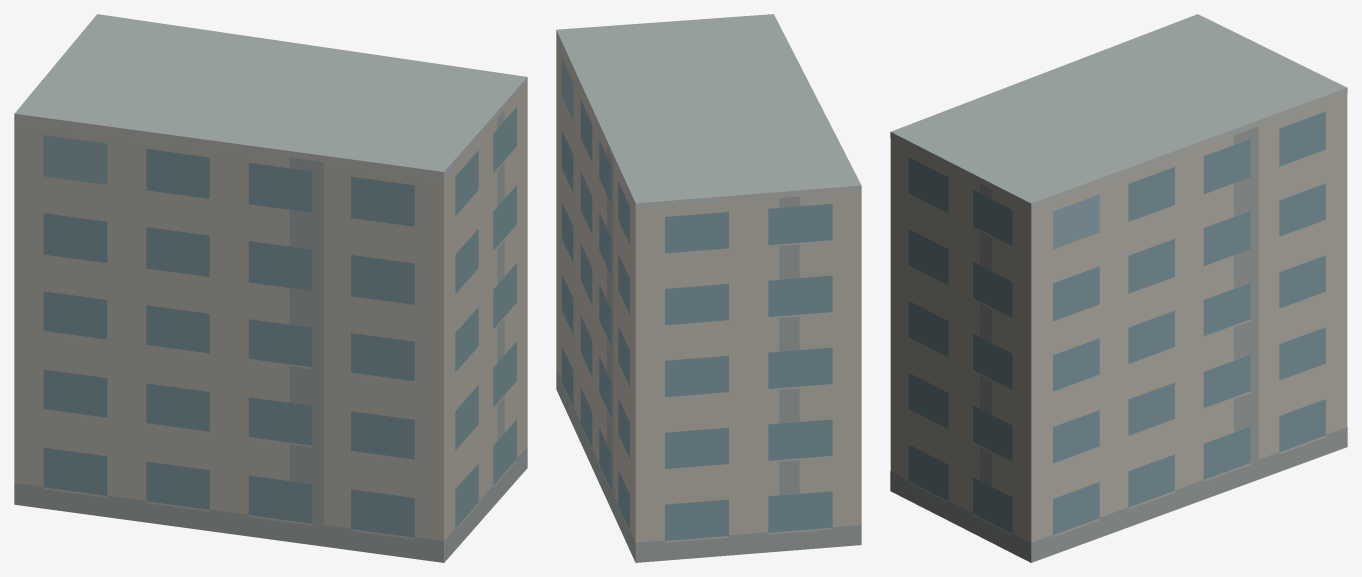
File: survey-upis-32842754.glb
The picture shows the model from 3 angles, left to right: view 1: azimuth 30°, elevation 25°; view 2: azimuth 150°, elevation 25°; view 3: azimuth 270°, elevation 25°; orthographic projection. The views are drawn at different scales.
Visible parts, largest first — view 1: survey-upis-32842754.tmp; view 2: survey-upis-32842754.tmp; view 3: survey-upis-32842754.tmp.
Part boxes in pixels (box(x1,y1,x2,y2)): survey-upis-32842754.tmp: box(14, 14, 527, 562); survey-upis-32842754.tmp: box(556, 14, 861, 562); survey-upis-32842754.tmp: box(890, 14, 1347, 562).
Size of the model in its own units: 16.39 by 14.48 by 16.69.
